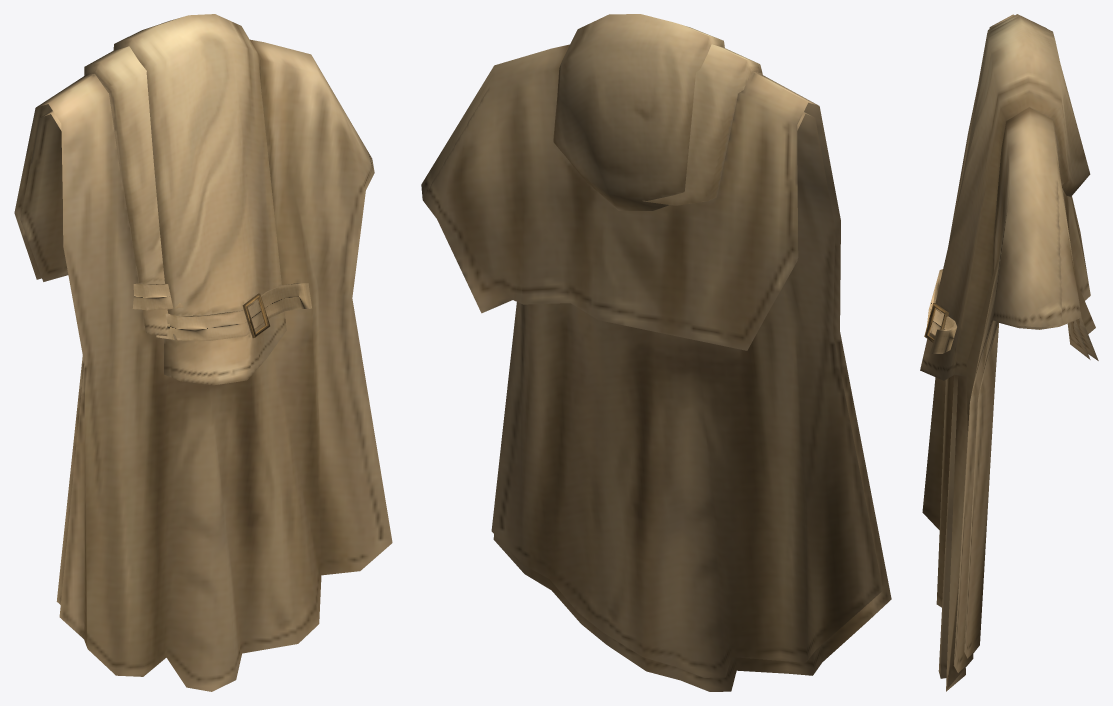
The model's file is SiZheBingFang_01_fengyi_01.FBX.
The picture shows the model from 3 angles, left to right: view 1: azimuth 30°, elevation 25°; view 2: azimuth 150°, elevation 25°; view 3: azimuth 270°, elevation 25°; orthographic projection. The views are drawn at different scales.
Visible parts, largest first — view 1: SiZheBingFang_fengyi_01; view 2: SiZheBingFang_fengyi_01; view 3: SiZheBingFang_fengyi_01.
Part boxes in pixels (<box>): SiZheBingFang_fengyi_01: <box>14,14,392,691</box>; SiZheBingFang_fengyi_01: <box>421,14,891,691</box>; SiZheBingFang_fengyi_01: <box>920,14,1098,691</box>.
Bounding box in the file's own units: 245 × 406 × 102.
